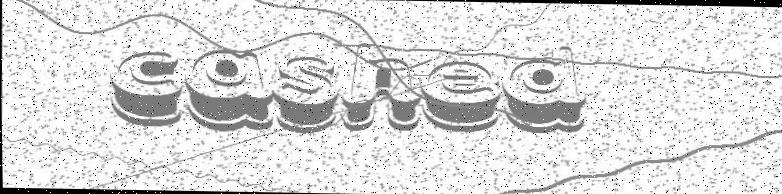a: (183, 46, 273, 132)
c: (107, 49, 183, 127)
d: (500, 45, 588, 133)
e: (418, 59, 501, 133)
h: (339, 42, 423, 132)
s: (272, 53, 340, 135)
